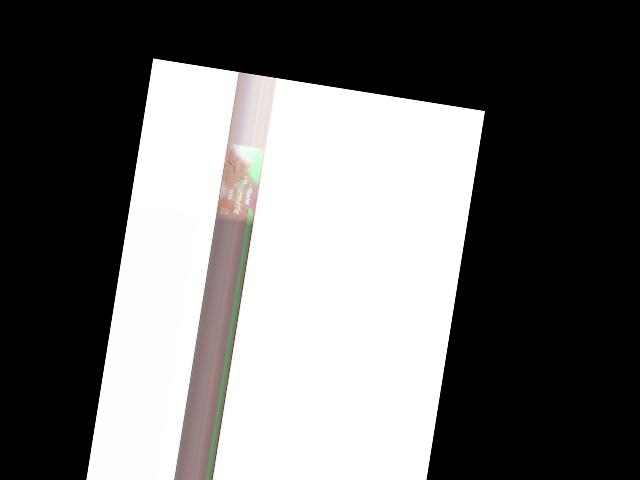chocolate: (215, 144, 263, 226)
